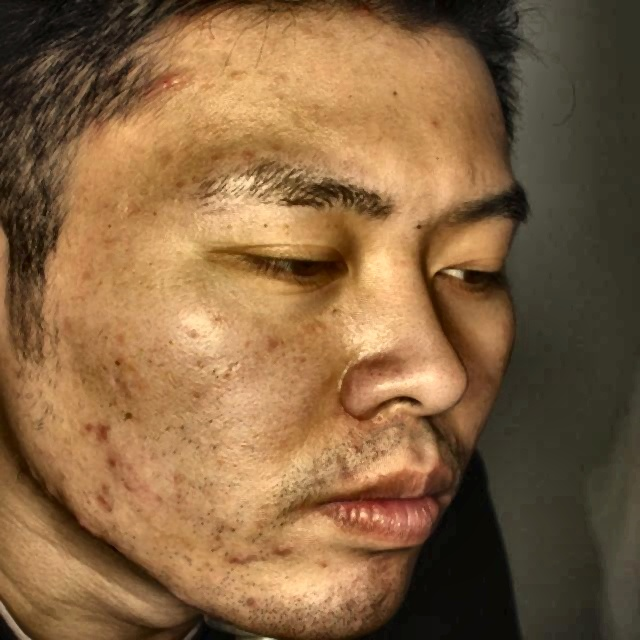pustule: (155, 56, 185, 99), (224, 540, 250, 576), (115, 473, 142, 505), (260, 536, 294, 561), (79, 418, 112, 442), (363, 576, 385, 611), (87, 484, 111, 514), (100, 448, 130, 463)
